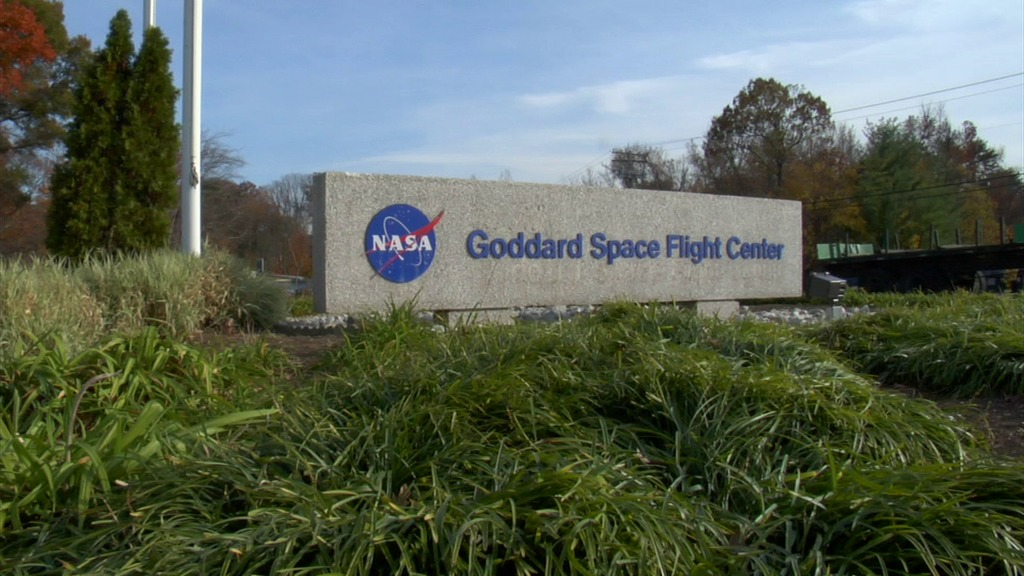NASA: (343, 198, 448, 290)
